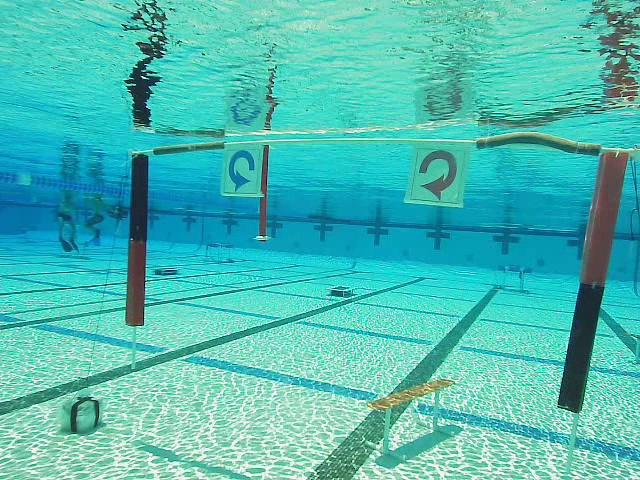gate: (124, 135, 635, 413)
gate_blue: (221, 143, 264, 196)
gate_leg_l: (125, 149, 151, 327)
gate_leg_r: (558, 147, 635, 413)
gate_red: (408, 147, 469, 206)
table: (497, 264, 531, 294)
